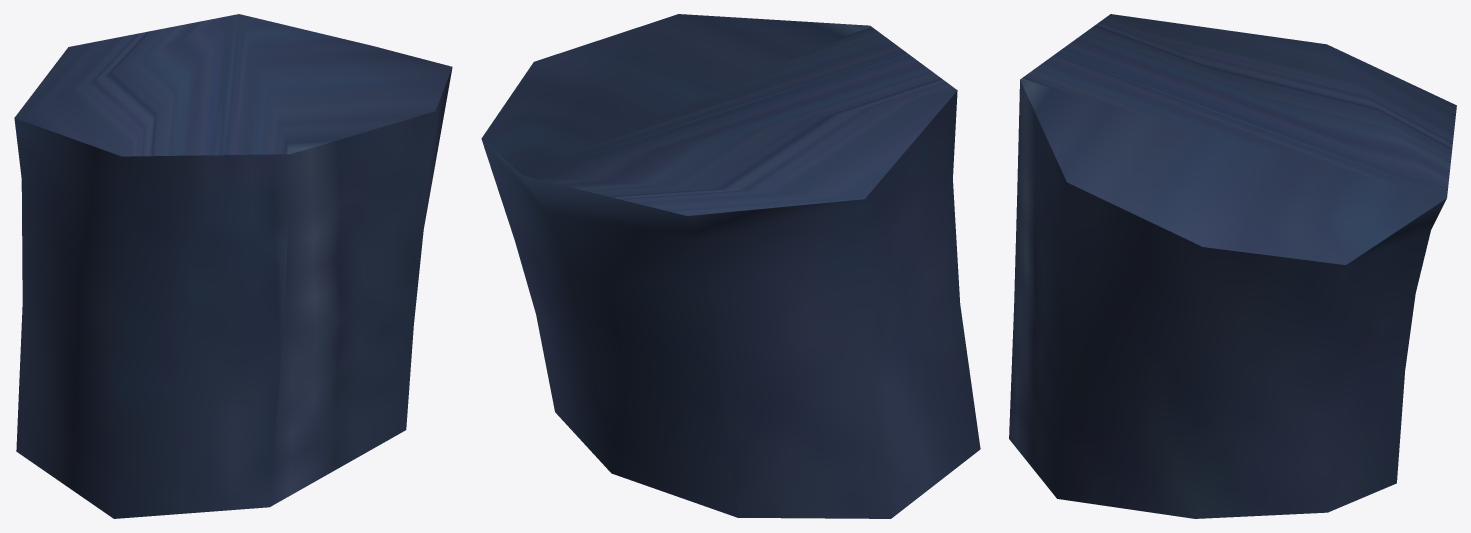
The model's file is pierna_der.obj.
3 views of the same model, side by side, from view 1: azimuth 30°, elevation 25°; view 2: azimuth 150°, elevation 25°; view 3: azimuth 270°, elevation 25° (orthographic). The views are drawn at different scales.
Parts seen in each view (by area): view 1: Material_#95.010; view 2: Material_#95.010; view 3: Material_#95.010.
Part boxes in pixels (<box>): Material_#95.010: <box>14,14,452,518</box>; Material_#95.010: <box>481,14,980,518</box>; Material_#95.010: <box>1009,14,1456,518</box>.
Bounding box in the file's own units: 0.8416 × 0.7267 × 0.763.
Materials: 1 (1 with a texture image).
